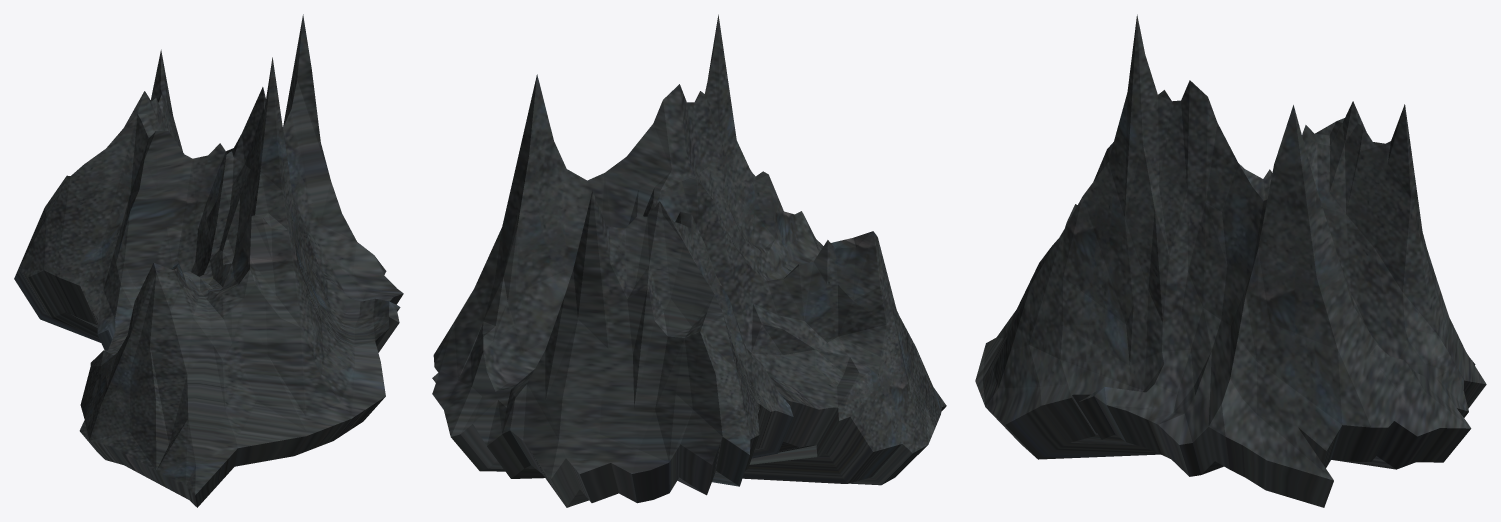
File: HMountains_2.gltf
3 renders of one model, left to right at view 1: azimuth 30°, elevation 25°; view 2: azimuth 150°, elevation 25°; view 3: azimuth 270°, elevation 25°, orthographic. The views are drawn at different scales.
Parts seen in each view (by area): view 1: HMountains_2; view 2: HMountains_2; view 3: HMountains_2.
Boxes of the visible parts, x1,y1,x2,y2 form: HMountains_2: [14, 14, 403, 507]; HMountains_2: [432, 14, 946, 507]; HMountains_2: [975, 14, 1486, 507].
Size of the model in its own units: 108 by 112 by 112.
1 material, 1 textured.
